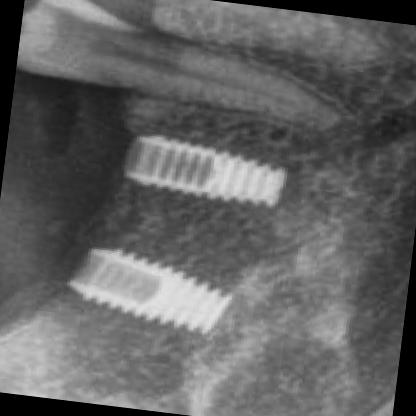Bicon: (52, 241, 236, 333), (114, 128, 296, 206)
